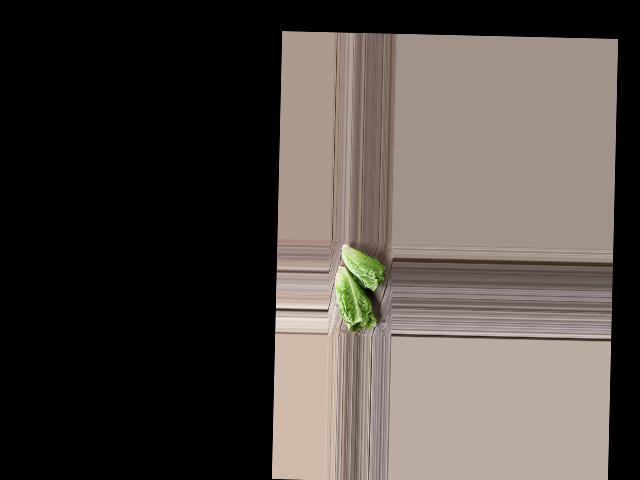lettuce: (338, 240, 390, 292)
